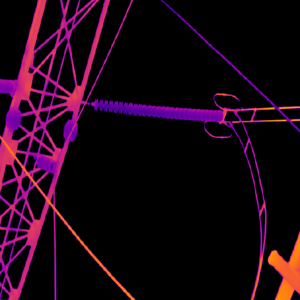insulator: (90, 95, 225, 123), (35, 155, 56, 175), (0, 77, 16, 95)
